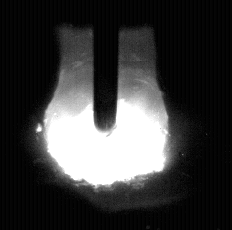arame: (94, 0, 118, 132)
poca: (44, 0, 170, 230)
